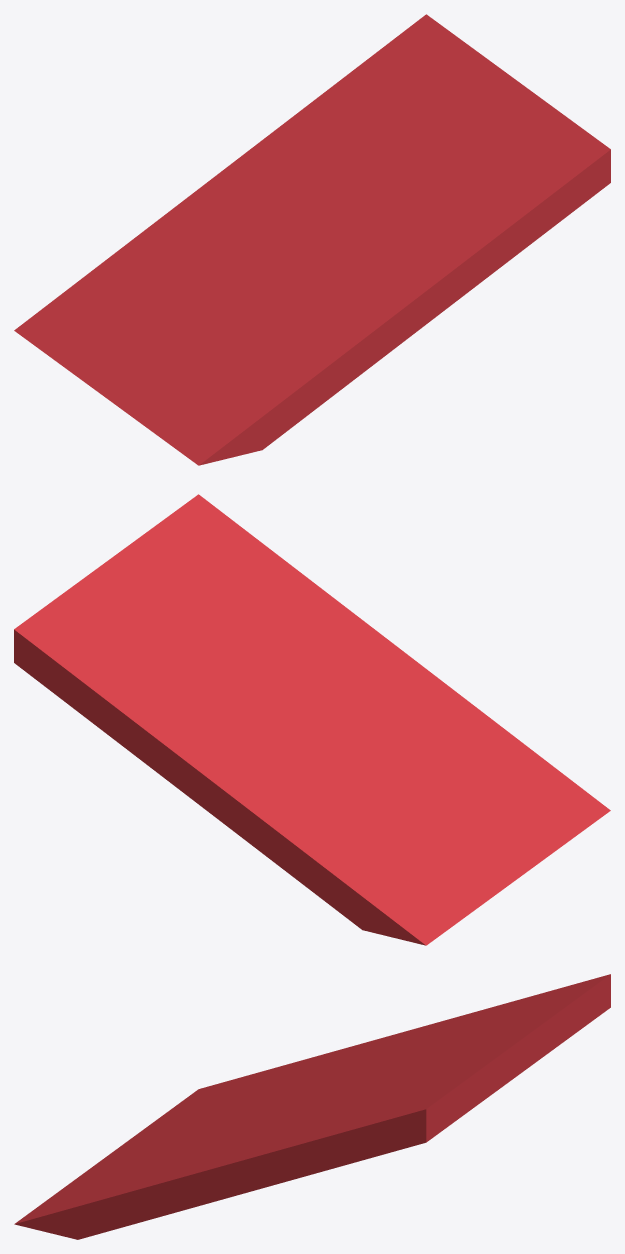
The model's file is roof_small_side.glb.
The picture shows the model from 3 angles, top to bottom: view 1: azimuth 30°, elevation 25°; view 2: azimuth 150°, elevation 25°; view 3: azimuth 330°, elevation 25°; orthographic projection.
Visible parts, largest first — view 1: roof_small_side; view 2: roof_small_side; view 3: roof_small_side.
Boxes of the visible parts, left/top/right/bottom form: roof_small_side: left=14, top=14, right=610, bottom=465; roof_small_side: left=14, top=494, right=610, bottom=945; roof_small_side: left=14, top=974, right=610, bottom=1239.
Bounding box in the file's own units: 1.29 × 0.6447 × 1.
